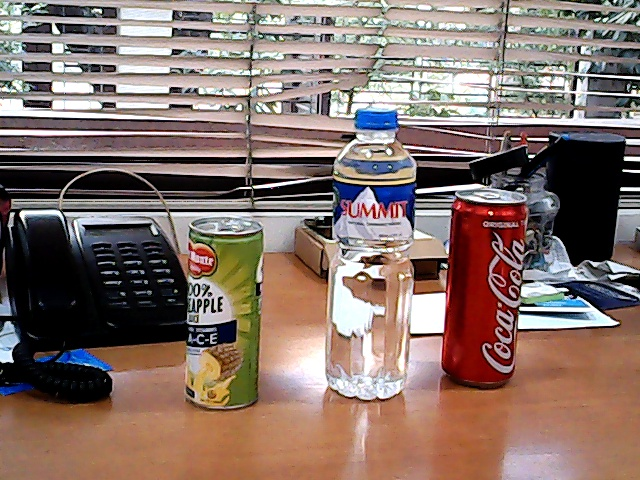Cola: (427, 183, 546, 399)
Pine Juice: (175, 205, 283, 422)
Summit Water: (314, 98, 430, 416)
